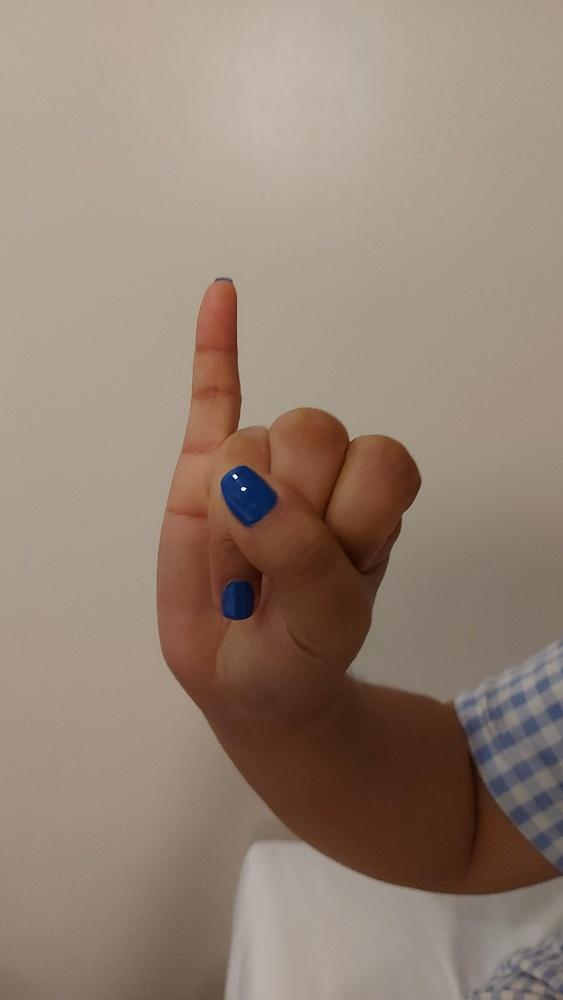i: (156, 274, 420, 712)
